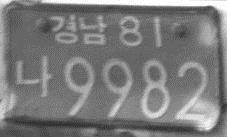1: (149, 14, 164, 47)
2: (174, 60, 211, 122)
8: (139, 58, 171, 119), (118, 13, 143, 48)
9: (61, 55, 96, 117), (101, 57, 134, 119)
경남_O: (48, 14, 108, 47)
나: (15, 53, 52, 99)
